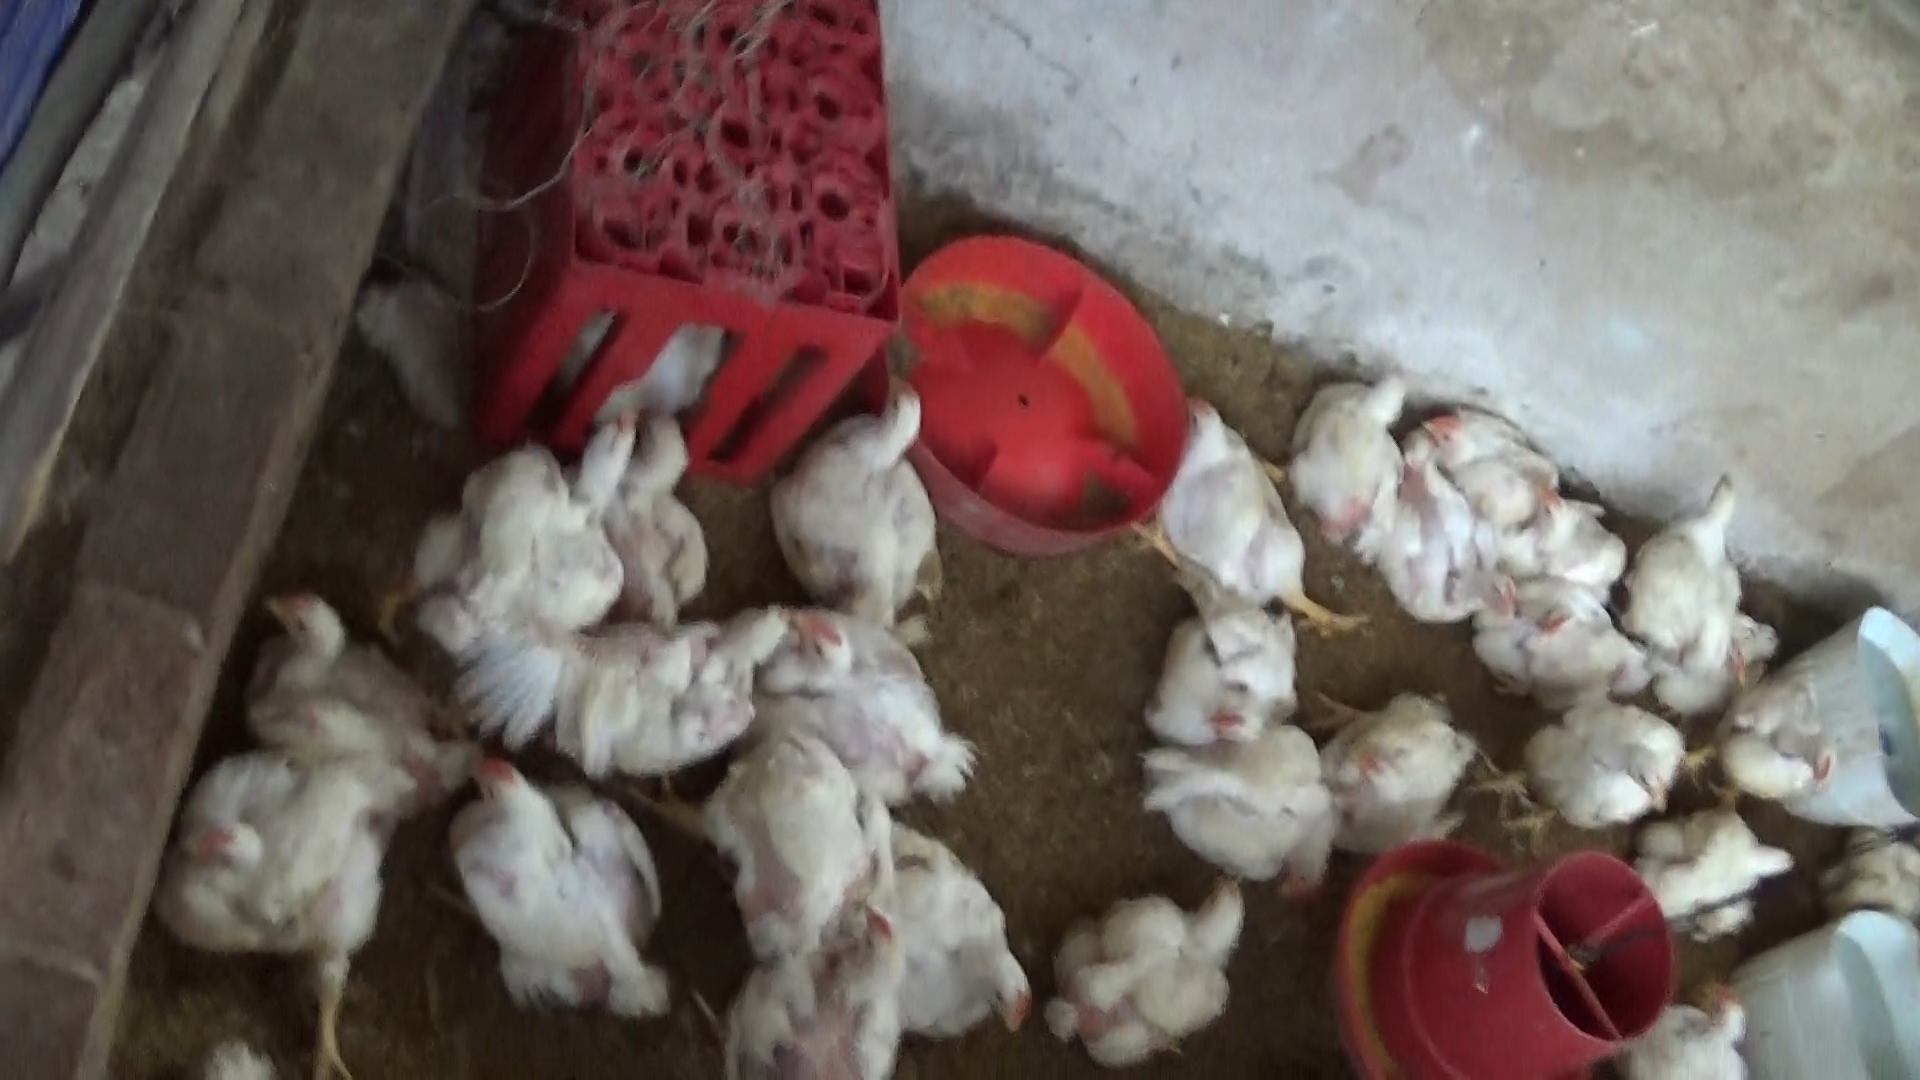Pollos: (702, 687, 924, 1080), (127, 737, 400, 1056), (444, 727, 698, 1027), (388, 393, 628, 667), (236, 576, 471, 812), (480, 603, 836, 748), (779, 357, 975, 615), (1162, 397, 1367, 640), (831, 822, 1046, 1048), (766, 588, 990, 800), (1044, 862, 1273, 1063), (1137, 712, 1341, 905), (1276, 353, 1429, 558), (1133, 599, 1309, 762), (1495, 688, 1685, 833), (597, 392, 716, 611), (1485, 562, 1662, 705), (1327, 680, 1477, 843), (1625, 458, 1737, 665), (1375, 463, 1515, 628), (1702, 657, 1840, 807), (1652, 798, 1772, 948), (1487, 488, 1636, 592), (1429, 409, 1581, 504), (1631, 978, 1764, 1080)
